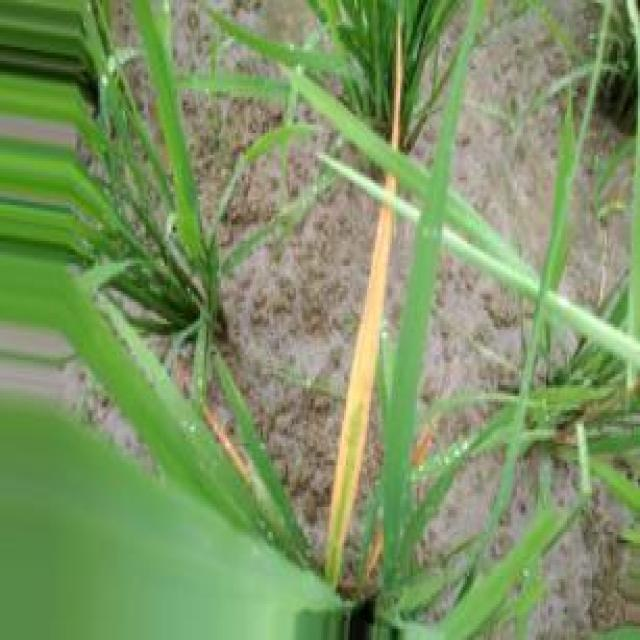Rice Tungro: (325, 206, 394, 586), (391, 12, 399, 149)
